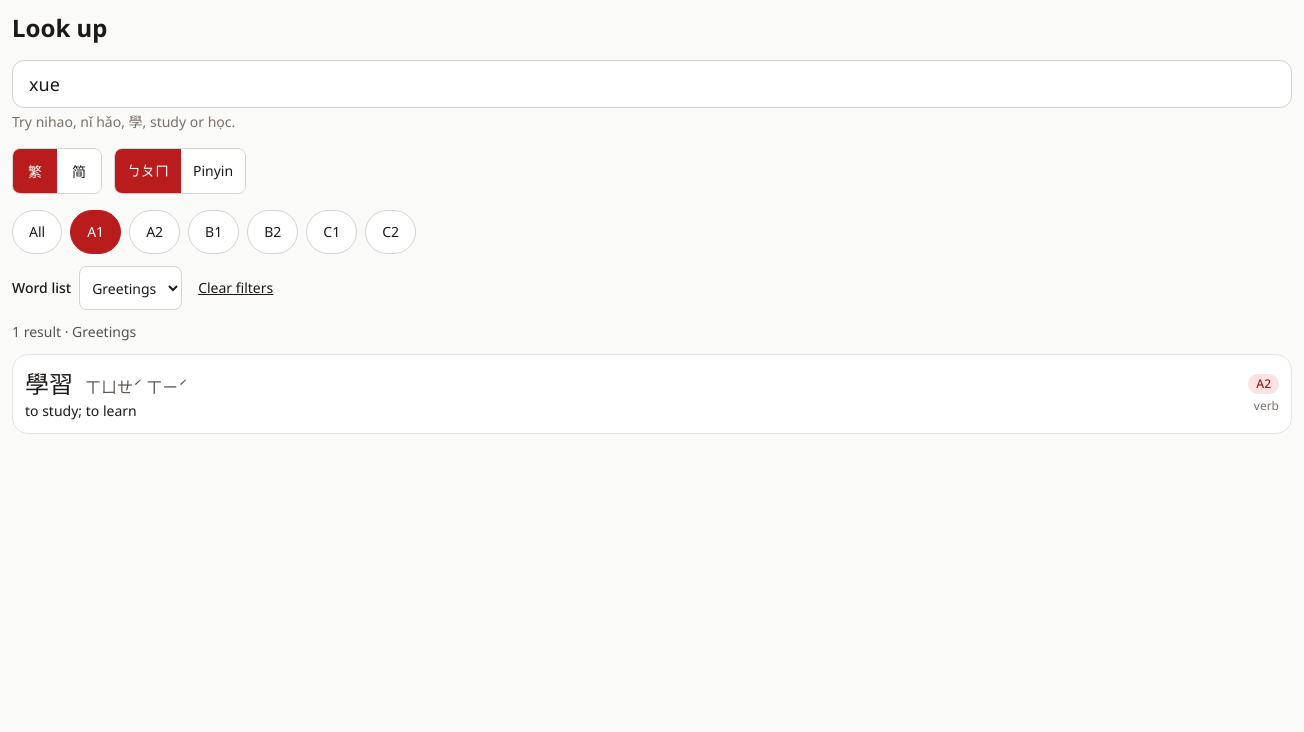
Test: filters › clears everything at once
Click the button "Clear filters" at (236, 288), box [190,266,281,310]
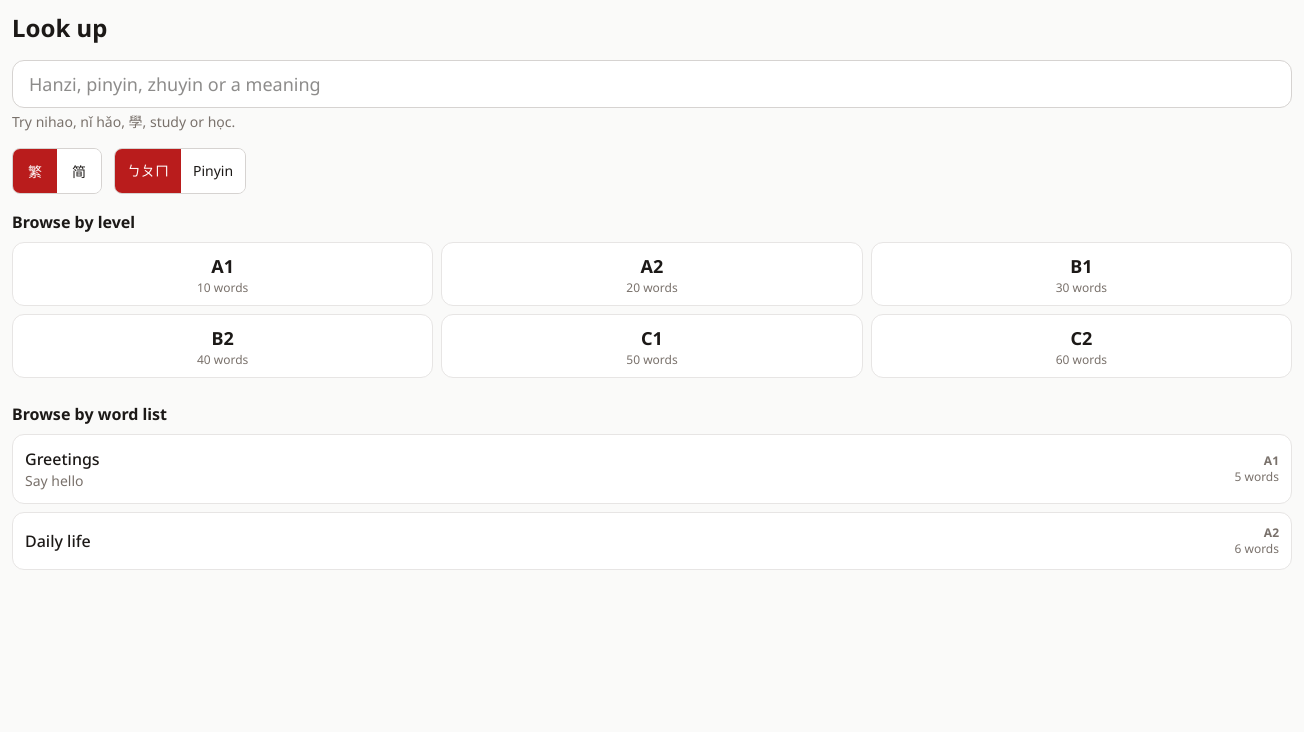
Check: the search field with placeholder "Hanzi, pinyin, zhuyin or a meaning" is empty, box [12,60,1292,108]
Check: the text "Browse by level" is shown, box [12,211,135,233]
